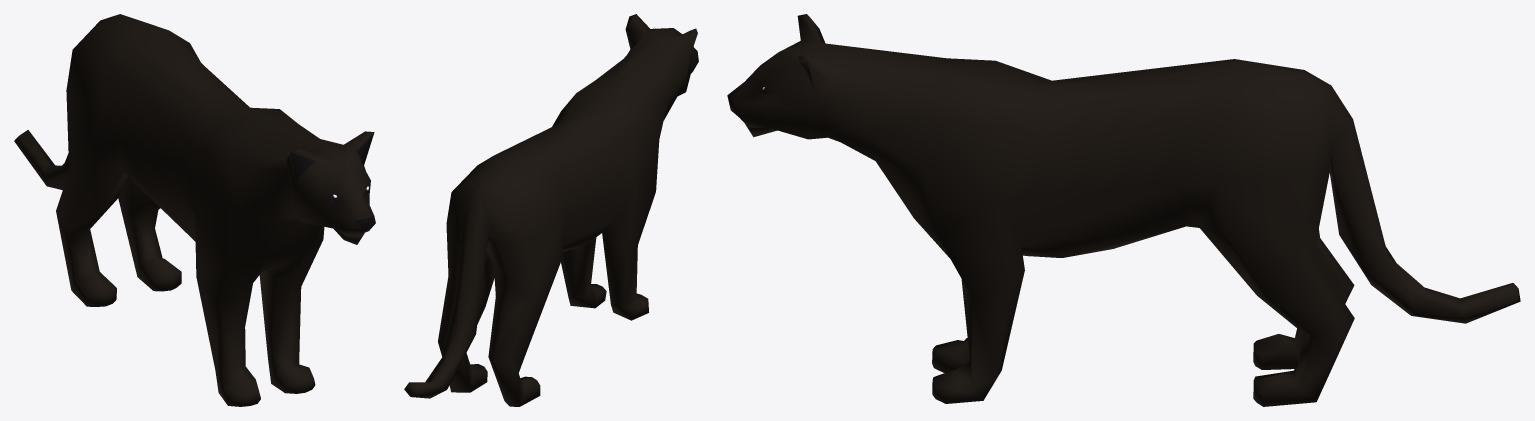
The model's file is Panther01.glb.
3 views of the same model, side by side, from view 1: azimuth 30°, elevation 25°; view 2: azimuth 150°, elevation 25°; view 3: azimuth 270°, elevation 25° (orthographic). The views are drawn at different scales.
Visible parts, largest first — view 1: Panther01; view 2: Panther01; view 3: Panther01.
Part boxes in pixels (box(x1,y1,x2,y2)): Panther01: box(14, 14, 375, 406); Panther01: box(404, 14, 698, 406); Panther01: box(727, 14, 1520, 406).
Size of what is drawn, in the model's own units: 0.4916 by 1.24 by 2.59.
Materials: 1 (1 with a texture image).
